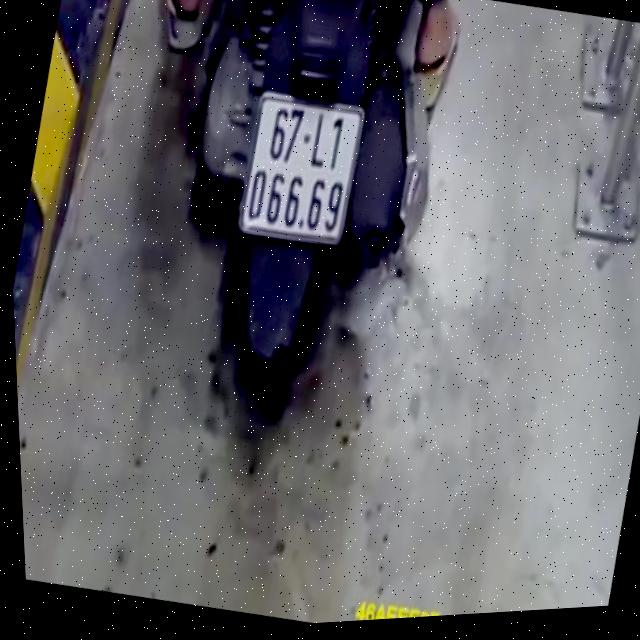motorcycle: (130, 0, 482, 426)
plate: (231, 86, 367, 250)
